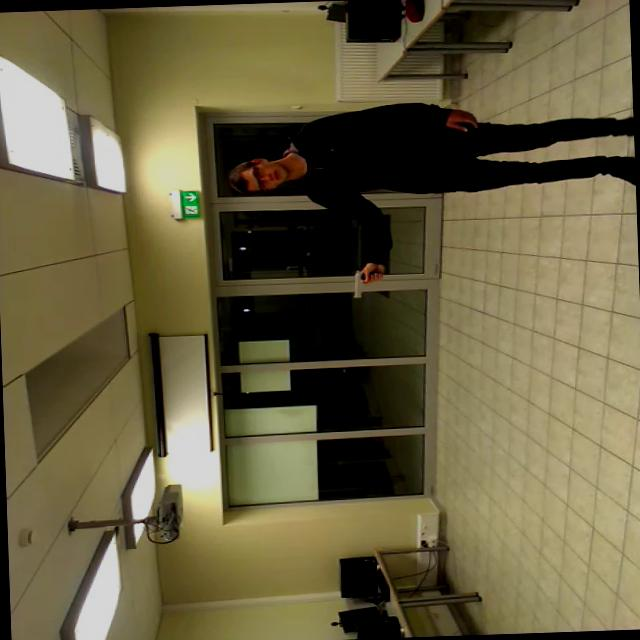handgun: (342, 256, 394, 304)
